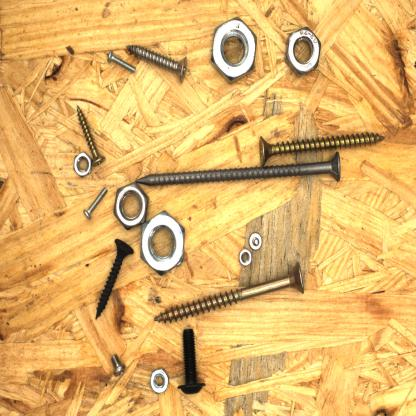screw: (151, 258, 307, 324), (133, 148, 345, 190), (256, 130, 388, 170), (92, 237, 137, 323), (124, 41, 190, 86), (175, 324, 208, 396), (74, 100, 107, 171), (82, 183, 110, 223), (104, 48, 138, 76), (110, 351, 128, 378), (246, 230, 264, 253)
